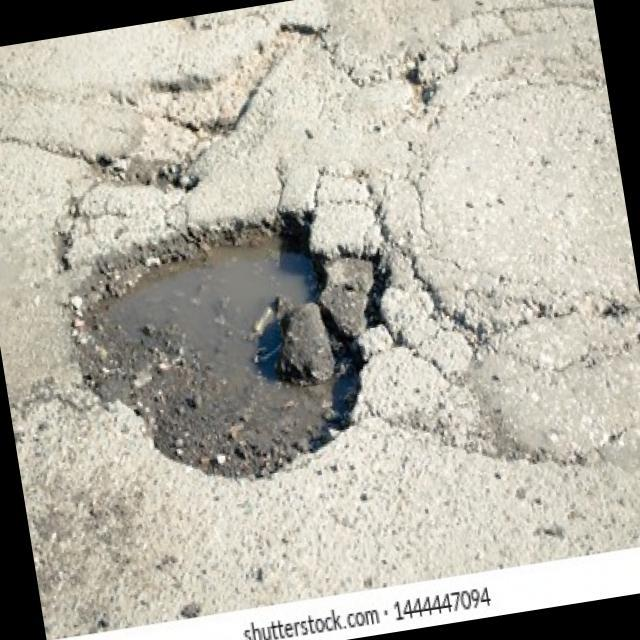Pothole: (51, 190, 420, 510)
